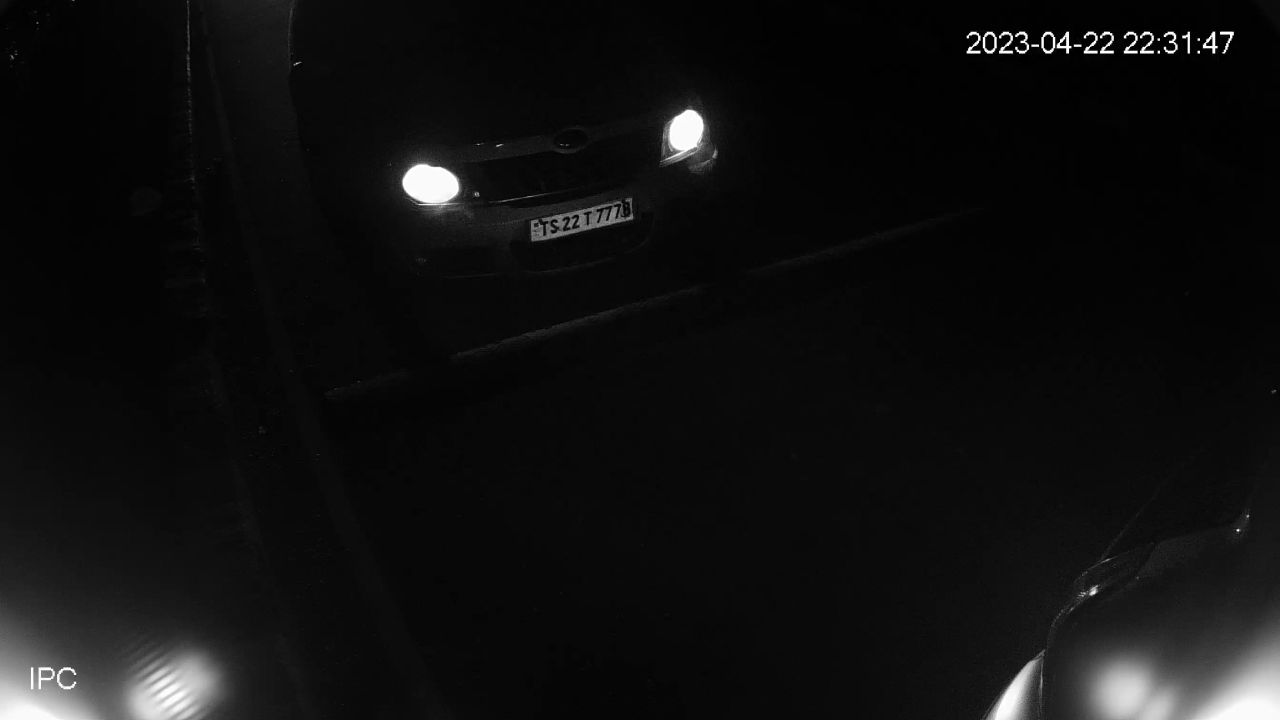license_plate: (525, 193, 639, 248)
